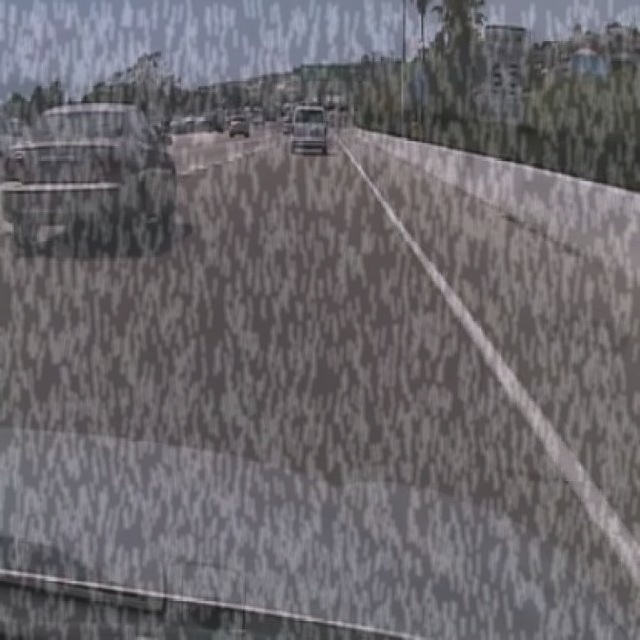speedLimit65: (483, 22, 527, 94)
